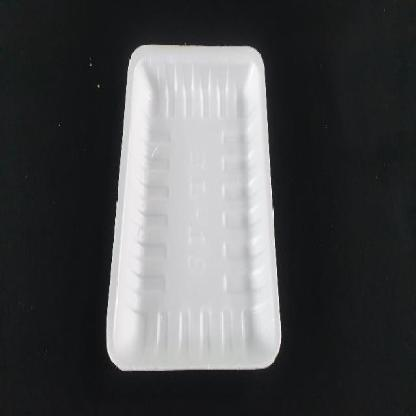Glass Cup: (105, 46, 282, 370), (107, 45, 281, 370)
